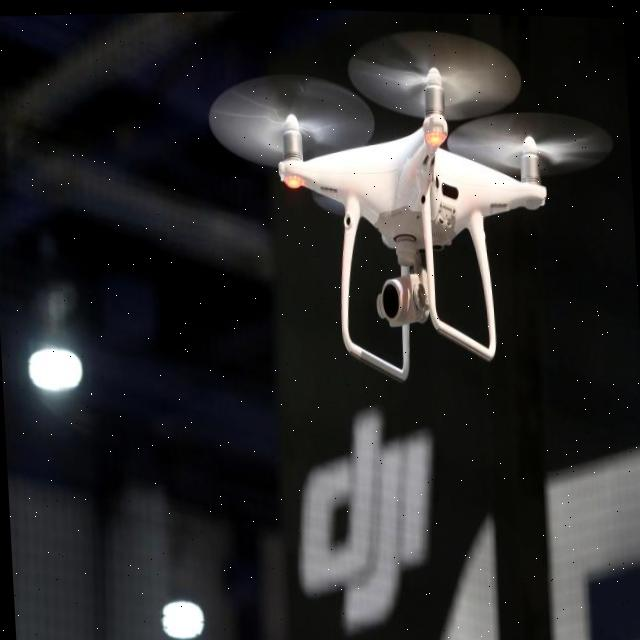drone: (214, 27, 608, 369)
